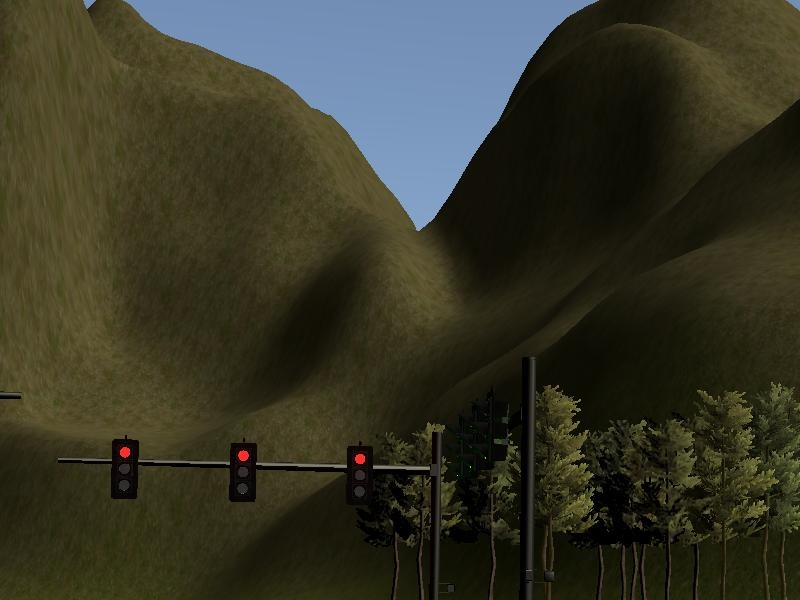red: (221, 432, 266, 512), (103, 429, 146, 505), (339, 435, 377, 506)
